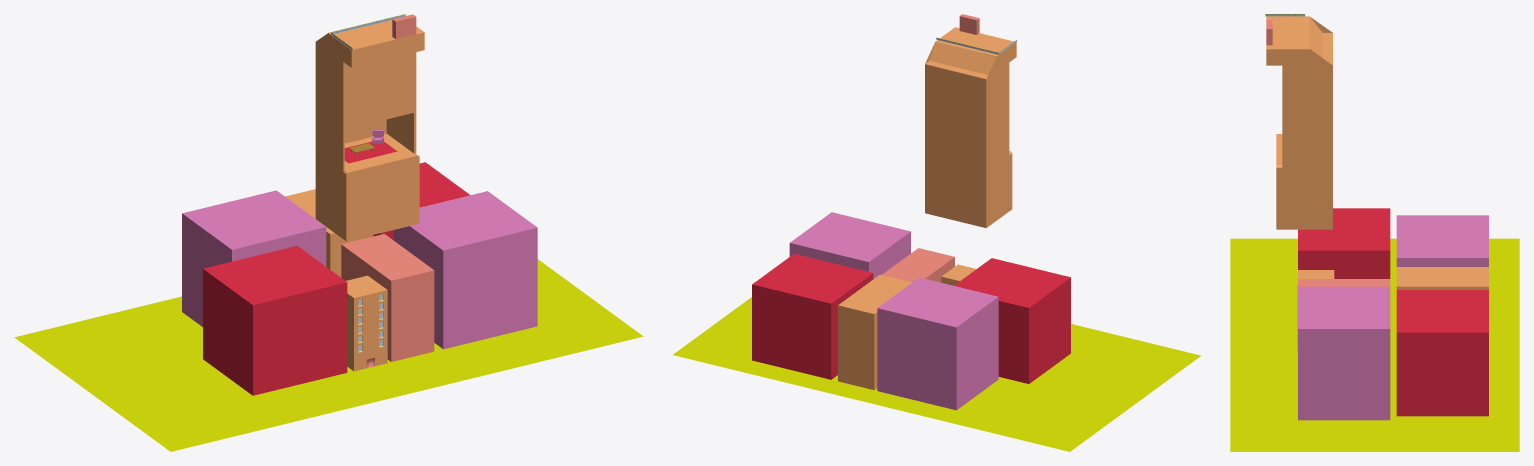
3 views of the same model, side by side, from view 1: azimuth 30°, elevation 25°; view 2: azimuth 150°, elevation 25°; view 3: azimuth 270°, elevation 25° (orthographic). The views are drawn at different scales.
Parts seen in each view (by area): view 1: Plane.001, Cube, Cube.010, Cube.013, Cube.011, Cube.009, Cube.006, Cube.014, Cube.012; view 2: Plane.001, Cube, Cube.011, Cube.014, Cube.010, Cube.013, Cube.012, Cube.009; view 3: Plane.001, Cube.013, Cube, Cube.014, Cube.010, Cube.011, Cube.012, Cube.009, Cube.006.
Part boxes in pixels (<box>): Plane.001: <box>14,259,643,451</box>; Cube: <box>315,15,424,241</box>; Cube.010: <box>203,246,347,395</box>; Cube.013: <box>393,191,537,349</box>; Cube.011: <box>182,190,326,326</box>; Cube.009: <box>341,234,434,361</box>; Cube.006: <box>346,275,387,371</box>; Cube.014: <box>373,162,470,239</box>; Cube.012: <box>285,189,373,277</box>; Plane.001: <box>673,297,1200,451</box>; Cube: <box>925,27,1016,228</box>; Cube.011: <box>877,277,998,410</box>; Cube.014: <box>752,253,873,379</box>; Cube.010: <box>954,258,1070,383</box>; Cube.013: <box>789,212,910,278</box>; Cube.012: <box>838,274,911,390</box>; Cube.009: <box>882,248,954,282</box>; Plane.001: <box>1230,238,1519,451</box>; Cube.013: <box>1298,286,1390,420</box>; Cube: <box>1266,16,1332,229</box>; Cube.014: <box>1396,290,1488,416</box>; Cube.010: <box>1298,208,1390,278</box>; Cube.011: <box>1396,215,1488,266</box>; Cube.012: <box>1396,267,1488,289</box>; Cube.009: <box>1298,279,1390,286</box>; Cube.006: <box>1297,270,1334,352</box>.
Size of the model in its own units: 281 by 202 by 161.
